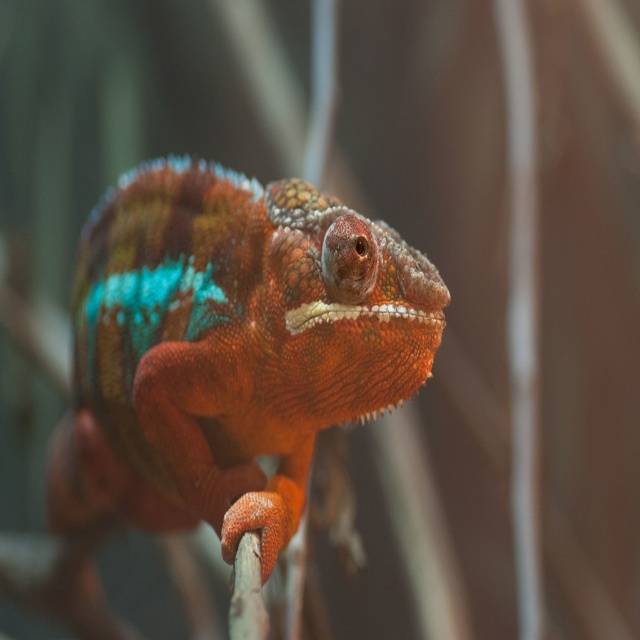Lizard: (72, 149, 470, 608)
